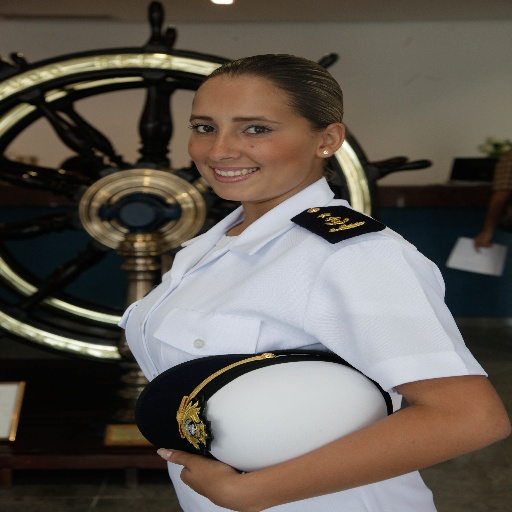hand: (145, 449, 285, 500)
